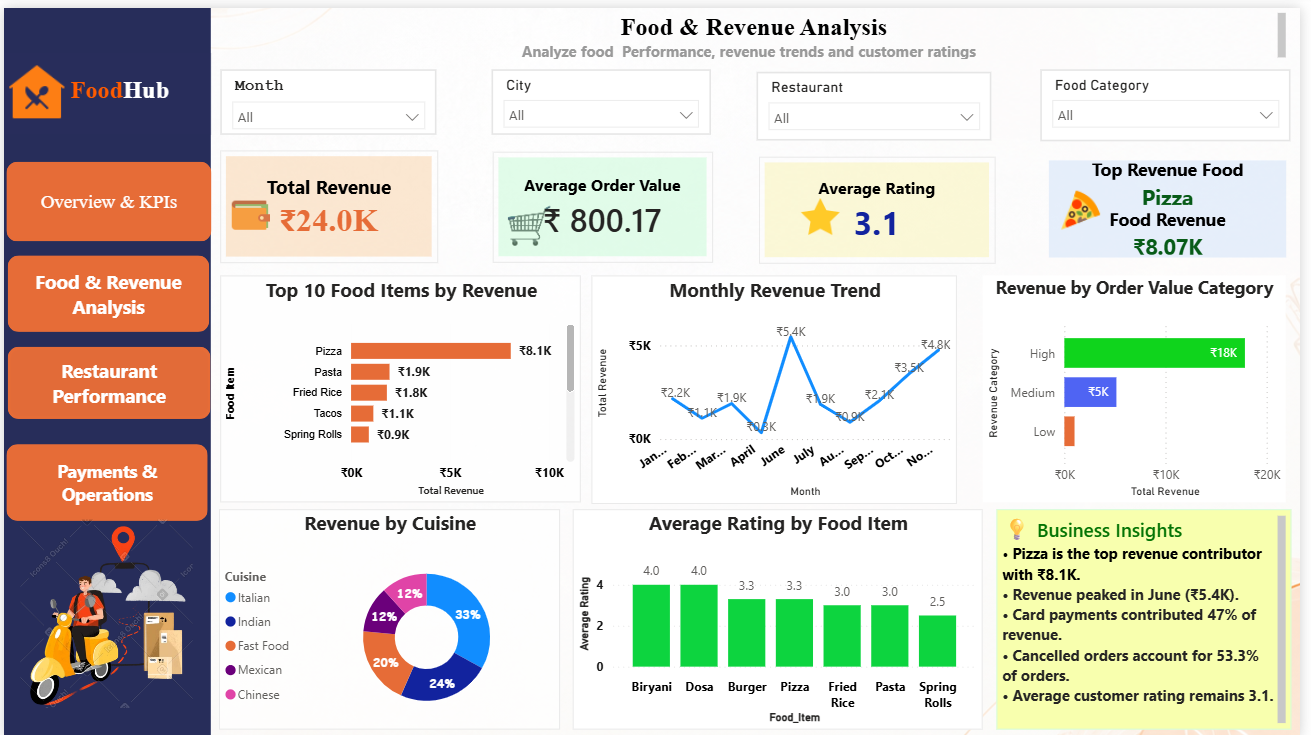

The dashboard page shown, as its layout file describes it:
{"tool":"powerbi","page":{"name":"Food & Revenue Analysis","canvas":[1280,720],"ordinal":1},"visuals":[{"type":"shape","box":[0,0,204.4,719.4],"z":0},{"type":"textbox","box":[212.8,0,1058.4,55.5],"z":1000},{"type":"group","id":"g1","title":"Group 4","box":[214,60.1,1057.2,70.6],"z":2000},{"type":"cardVisual","fields":{"Data":["Order_detail.Total Revenue"]},"box":[214,141.1,215.1,111],"z":2000,"group":"g3"},{"type":"textbox","title":"FoodHub","box":[0,43.9,204.9,80.5],"z":3000},{"type":"cardVisual","title":"Top Revenue Food","fields":{"Data":["Order_detail.Top Revenue Food","Order_detail.Food Revenue"]},"box":[1027.2,145.7,244.1,106.4],"z":3000,"group":"g3"},{"type":"actionButton","box":[2.7,244.2,199,75.5],"z":4000,"group":"g2"},{"type":"clusteredBarChart","title":"Top 10  Food Items by Revenue","fields":{"Category":["Order_detail.Food_Item"],"Y":["Order_detail.Total Revenue"]},"box":[214,263.7,356.3,224.4],"z":4000,"group":"g4"},{"type":"textbox","box":[979.7,495.1,291.5,217.5],"z":4000},{"type":"image","box":[222.7,178.4,43.2,51.1],"z":5000},{"type":"donutChart","title":"Revenue by Cuisine","fields":{"Category":["Restaurants_Details.Cuisine"],"Y":["Order_detail.Total Revenue"]},"box":[212.8,495.1,336.6,217.5],"z":5000,"group":"g5"},{"type":"cardVisual","fields":{"Data":["Order_detail.Average Order Value"]},"box":[483.5,142.3,217.5,109.9],"z":6000,"group":"g3"},{"type":"actionButton","box":[2,151.2,202.3,78.7],"z":6000,"group":"g2"},{"type":"image","box":[497.4,189.7,42.3,48.5],"z":6000},{"type":"actionButton","title":"Payments  &","box":[2.4,430.5,198.8,75.6],"z":6500,"group":"g2"},{"type":"image","box":[2.3,55.5,60.1,56.7],"z":7000},{"type":"group","id":"g2","title":"Group 2","box":[2,151.2,202.3,354.9],"z":8000},{"type":"columnChart","title":"Average Rating by Food Item","fields":{"Y":["Order_detail.Average Rating"],"Category":["Order_detail.Food_Item"]},"box":[562.1,495.1,404.8,217.5],"z":8000,"group":"g5"},{"type":"group","id":"g3","title":"Group 1","box":[214,141.1,1057.2,111],"z":9000},{"type":"slicer","fields":{"Values":["Order_detail.Order_Date.Variation.Date Hierarchy.Month"]},"box":[214,60.1,214,64.5],"z":10000,"group":"g1"},{"type":"cardVisual","fields":{"Data":["Order_detail.Average Rating"]},"box":[746.1,146.9,233.7,105.3],"z":10000,"group":"g3"},{"type":"group","id":"g4","title":"Group 3","box":[214,263.7,1052.6,225.6],"z":10000},{"type":"slicer","fields":{"Values":["Order_detail.City"]},"box":[482.5,60.1,216.8,64.5],"z":11000,"group":"g1"},{"type":"group","id":"g5","title":"Group 5","box":[212.8,495.1,754.2,217.5],"z":11000},{"type":"actionButton","box":[2.7,333.5,200.3,71.4],"z":11500,"group":"g2"},{"type":"slicer","fields":{"Values":["Restaurants_Details.Restaurant name"]},"box":[744,62.3,232.1,67.8],"z":12000,"group":"g1"},{"type":"image","box":[16.2,505.5,170.1,186.2],"z":12000},{"type":"slicer","fields":{"Values":["Order_detail.Food_Item"]},"box":[1023.7,60.1,247.5,71],"z":13000,"group":"g1"},{"type":"lineChart","title":"Monthly Revenue Trend","fields":{"Category":["Order_detail.Order_Date.Variation.Date Hierarchy.Month"],"Y":["Order_detail.Total Revenue"]},"box":[580.7,263.7,360.9,225.6],"z":15000,"group":"g4"},{"type":"barChart","title":"Revenue by Order Value Category","fields":{"Y":["Order_detail.Total Revenue"],"Category":["Order_detail.Revenue Category"]},"box":[967,263.7,299.6,224.4],"z":16000,"group":"g4"},{"type":"image","box":[1035.3,174.6,57.8,50.9],"z":17000,"group":"g3"},{"type":"image","box":[780.8,183.9,52.1,44],"z":18000,"group":"g3"}]}

Visuals, with their boxes in screenshot pixels (x1, y1, x2, y2), scaled from the page's 1280x720 canvas onto the 1311x735 screenshot:
shape: 0,0,209,734
textbox: 218,0,1302,57
"Group 4" group: 219,61,1302,133
cardVisual - Order_detail.Total Revenue: 219,144,439,257
"FoodHub" textbox: 0,45,210,127
"Top Revenue Food" cardVisual: 1052,149,1302,257
actionButton: 3,249,207,326
"Top 10  Food Items by Revenue" clusteredBarChart: 219,269,584,498
textbox: 1003,505,1302,727
image: 228,182,272,234
"Revenue by Cuisine" donutChart: 218,505,563,727
cardVisual - Order_detail.Average Order Value: 495,145,718,257
actionButton: 2,154,209,235
image: 509,194,553,243
"Payments  &" actionButton: 2,439,206,517
image: 2,57,64,115
"Group 2" group: 2,154,209,517
"Average Rating by Food Item" columnChart: 576,505,990,727
"Group 1" group: 219,144,1302,257
slicer - Order_detail.Order_Date.Variation.Date Hierarchy.Month: 219,61,438,127
cardVisual - Order_detail.Average Rating: 764,150,1004,257
"Group 3" group: 219,269,1297,499
slicer - Order_detail.City: 494,61,716,127
"Group 5" group: 218,505,990,727
actionButton: 3,340,208,413
slicer - Restaurants_Details.Restaurant name: 762,64,1000,133
image: 17,516,191,706
slicer - Order_detail.Food_Item: 1048,61,1302,134
"Monthly Revenue Trend" lineChart: 595,269,964,499
"Revenue by Order Value Category" barChart: 990,269,1297,498
image: 1060,178,1120,230
image: 800,188,853,233
